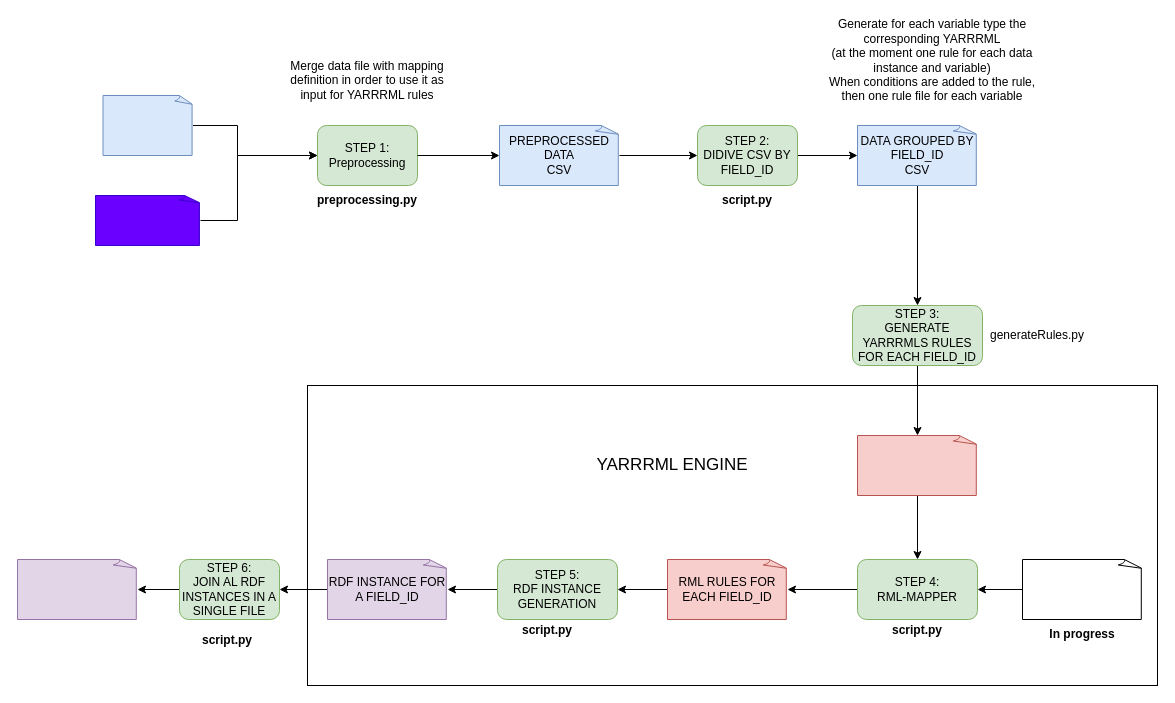
Image size: 1175x703. Some labels were removed from this diagram. Here are the shapes that lost their labels. From the top down, the centre of each, then its label:
point (147, 125): DATA CSV
point (147, 220): MappingDefinition CSV
point (917, 465): YARRRML RULES FOR EACH FIELD_ID
point (77, 589): RDF INSTANCE FOR ALL DATA
point (1082, 589): FUNCTIONS IN JAVA / PYTHON
